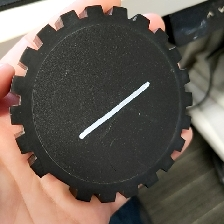gear: (8, 4, 194, 204)
missing: (27, 153, 92, 203)
